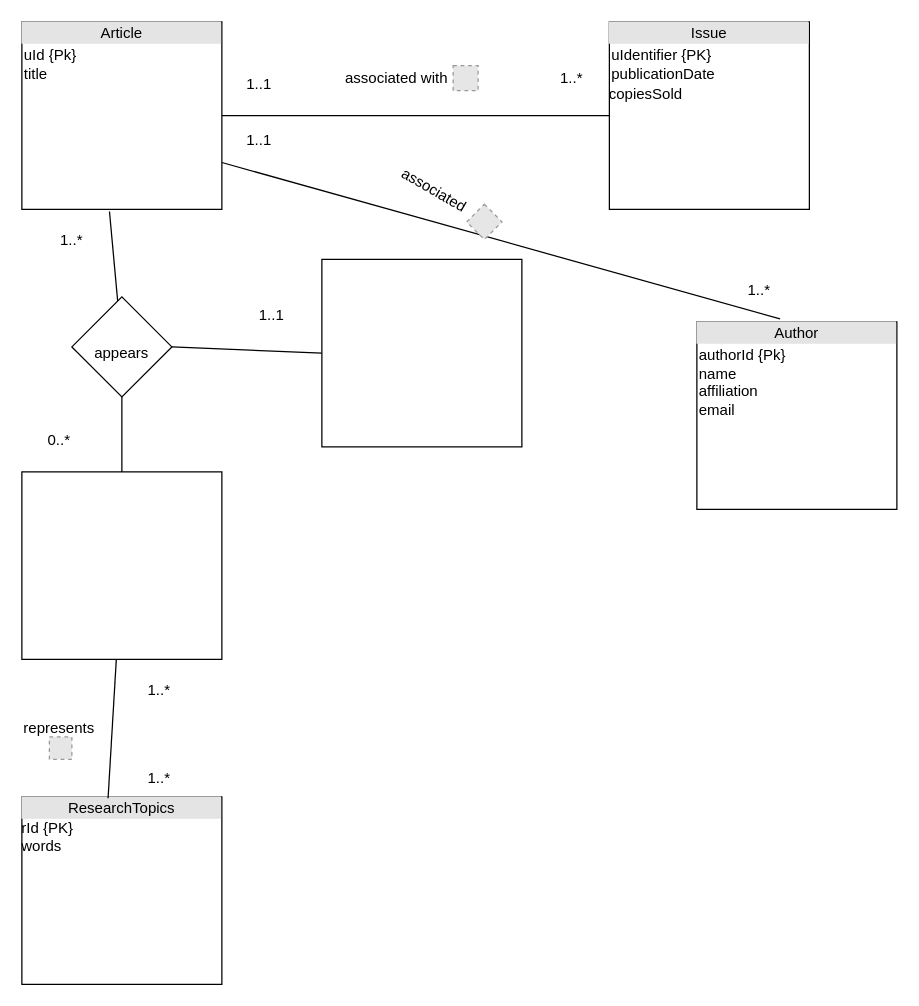
This 919x1006 diagram has some shape labels left out. Grey dashed boxes stand in for pictures. Each missing label, with the centre of its shape:
"Keyword keywordPhrase keywordId {PK}" goes at pixel 121 565.
"Location keywordPhrasePosition {PK}" goes at pixel 421 352.
